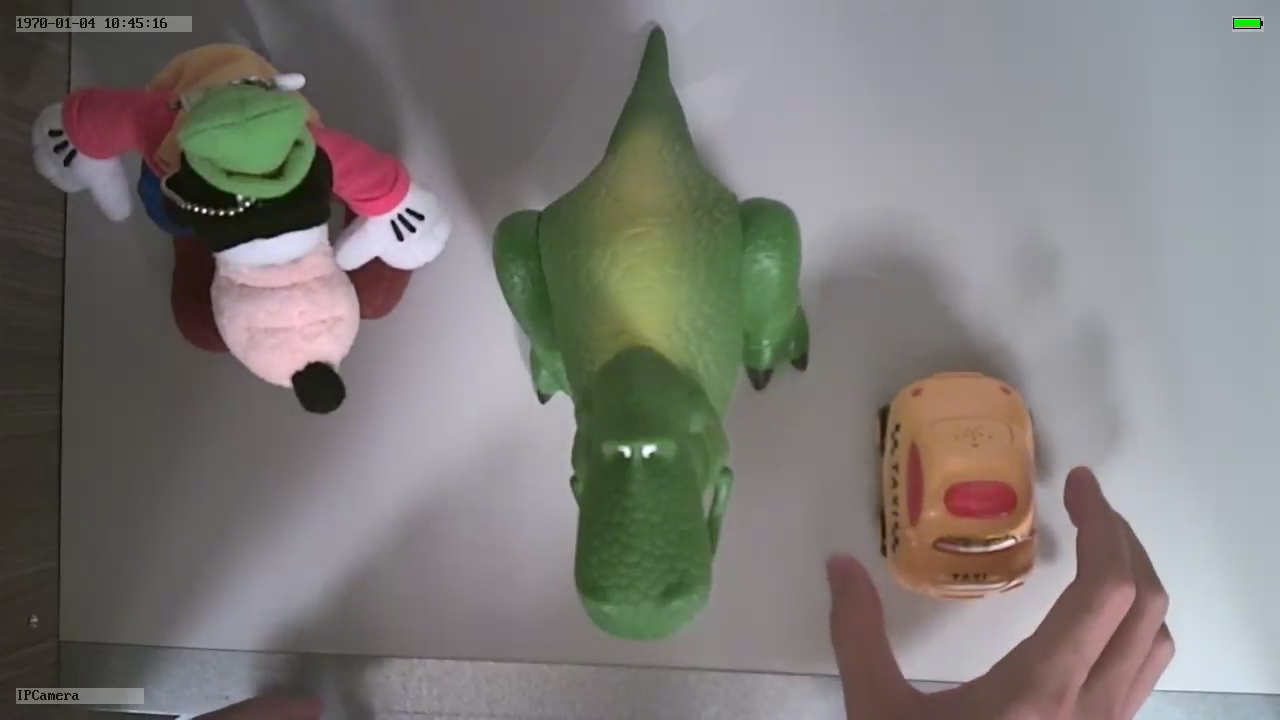goofy: (30, 37, 453, 409)
